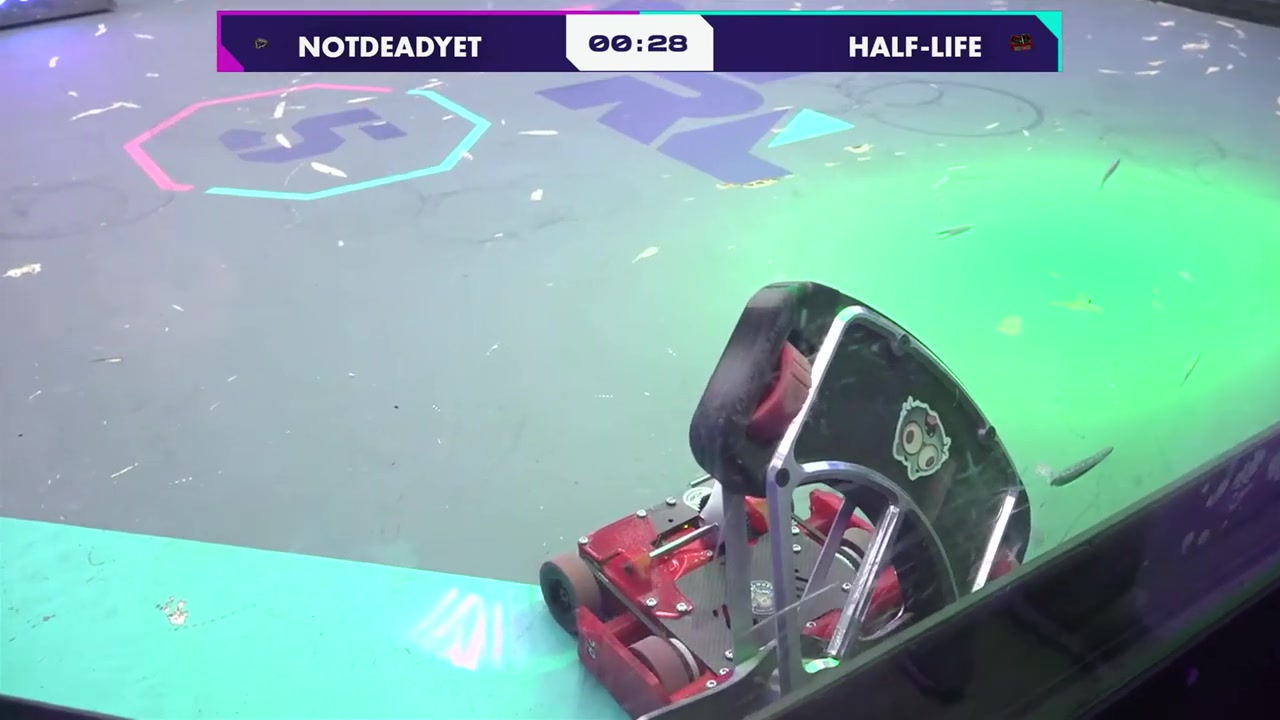combatbot: (683, 270, 1032, 698), (537, 470, 900, 716)
housebot: (1, 0, 119, 41)
